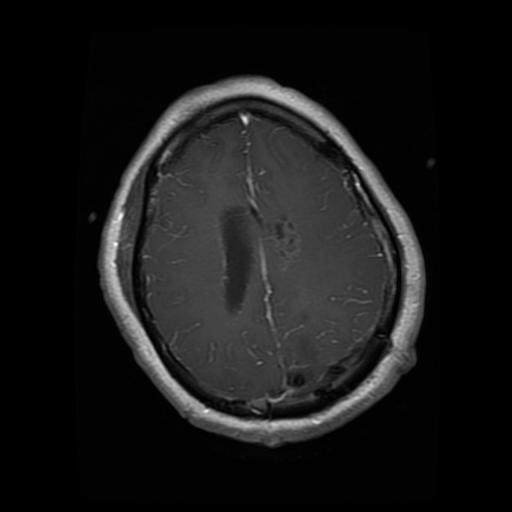Gliomia_tumour: (267, 209, 300, 267)
